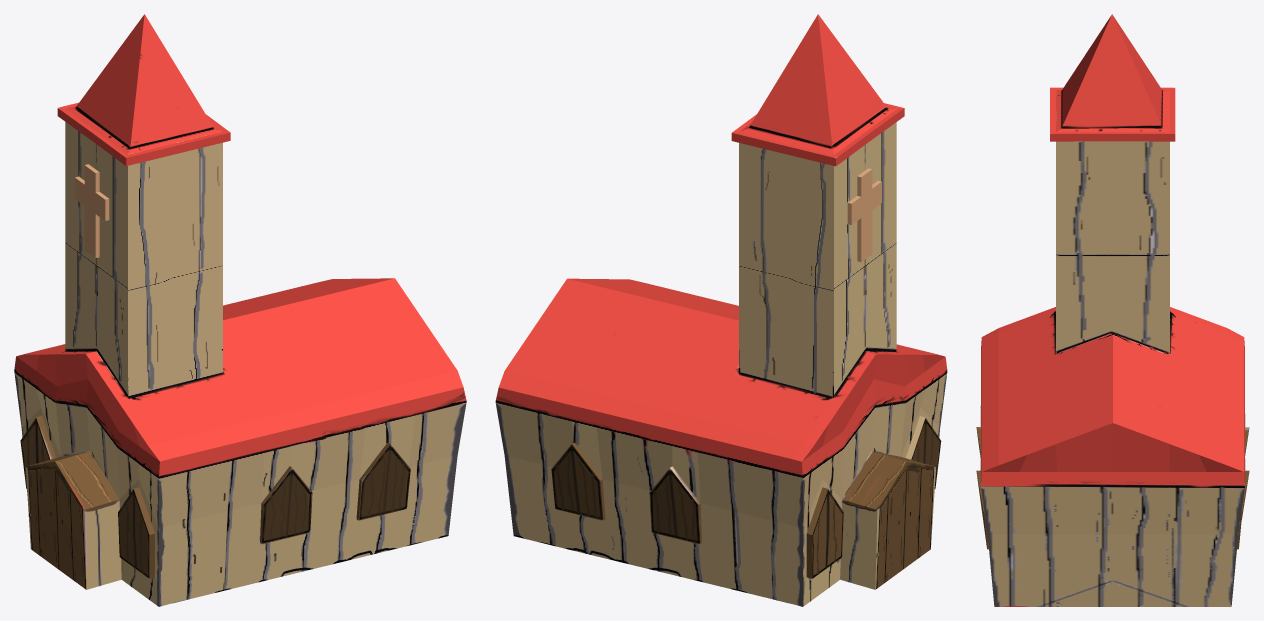
The model's file is church.obj.
3 views of the same model, side by side, from view 1: azimuth 30°, elevation 25°; view 2: azimuth 150°, elevation 25°; view 3: azimuth 270°, elevation 25° (orthographic). The views are drawn at different scales.
Visible parts, largest first — view 1: Cube; view 2: Cube; view 3: Cube.
Boxes of the visible parts, x1=… form: Cube: x1=14, y1=14, x2=466, y2=606; Cube: x1=495, y1=14, x2=947, y2=606; Cube: x1=976, y1=14, x2=1249, y2=606.
Bounding box in the file's own units: 11.65 × 17.51 × 8.88.
1 material, 1 textured.
